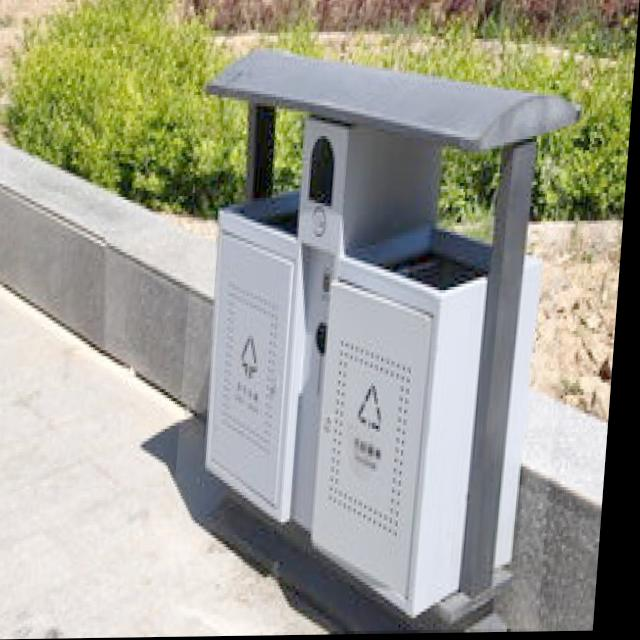garbage_bin: (174, 45, 582, 635)
